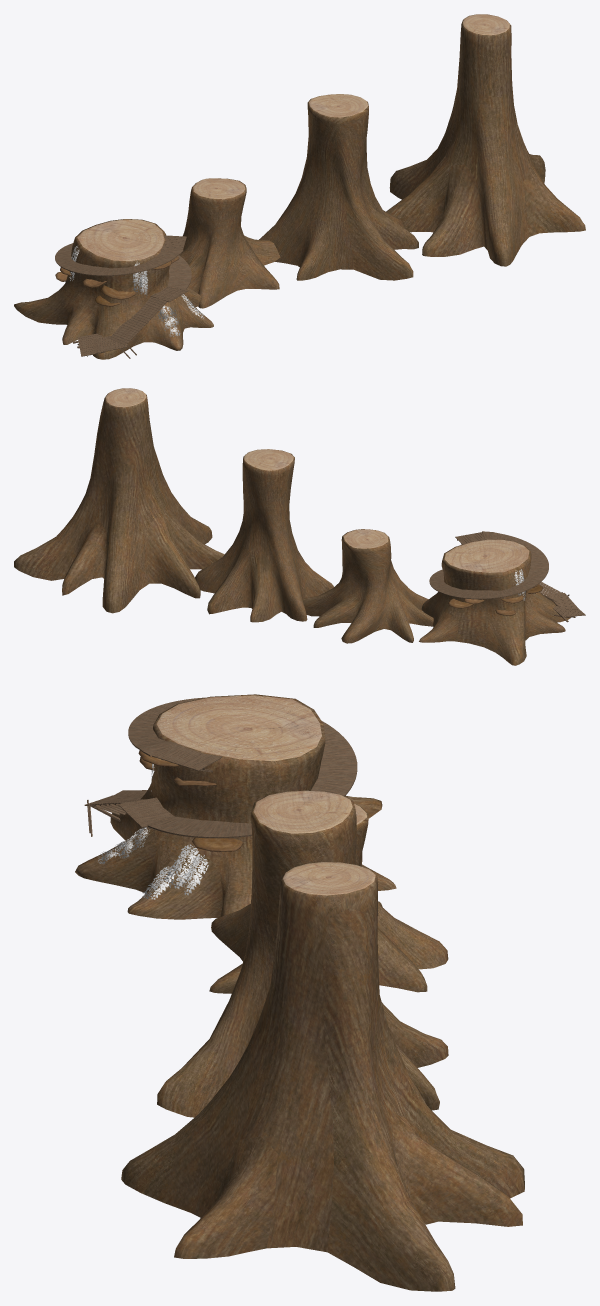
The model's file is Massive_Stumps_A1.fbx.
The picture shows the model from 3 angles, top to bottom: view 1: azimuth 30°, elevation 25°; view 2: azimuth 150°, elevation 25°; view 3: azimuth 270°, elevation 25°; orthographic projection. The views are drawn at different scales.
Visible parts, largest first — view 1: Massive_Stump_A4, Massive_Stump_A3, Massive_Stump_A1, Massive_Stump_A2, Massive_Stump_A1_Ramp, Massive_Stump_A1_Ivy, Massive_Stump_A1_Mushrooms; view 2: Massive_Stump_A4, Massive_Stump_A3, Massive_Stump_A1, Massive_Stump_A2, Massive_Stump_A1_Ramp, Massive_Stump_A1_Mushrooms; view 3: Massive_Stump_A4, Massive_Stump_A1, Massive_Stump_A3, Massive_Stump_A1_Ramp, Massive_Stump_A2, Massive_Stump_A1_Ivy, Massive_Stump_A1_Mushrooms.
Boxes of the visible parts, left/top/right/bottom form: Massive_Stump_A4: left=386, top=14, right=585, bottom=266; Massive_Stump_A3: left=259, top=94, right=418, bottom=280; Massive_Stump_A1: left=14, top=219, right=213, bottom=359; Massive_Stump_A2: left=179, top=178, right=280, bottom=308; Massive_Stump_A1_Ramp: left=55, top=235, right=191, bottom=358; Massive_Stump_A1_Ivy: left=69, top=246, right=204, bottom=336; Massive_Stump_A1_Mushrooms: left=55, top=256, right=179, bottom=306; Massive_Stump_A4: left=14, top=388, right=224, bottom=613; Massive_Stump_A3: left=195, top=449, right=333, bottom=622; Massive_Stump_A1: left=419, top=539, right=569, bottom=665; Massive_Stump_A2: left=302, top=529, right=433, bottom=643; Massive_Stump_A1_Ramp: left=429, top=531, right=585, bottom=622; Massive_Stump_A1_Mushrooms: left=448, top=584, right=542, bottom=615; Massive_Stump_A4: left=121, top=862, right=524, bottom=1291; Massive_Stump_A1: left=75, top=694, right=396, bottom=919; Massive_Stump_A3: left=157, top=790, right=448, bottom=1117; Massive_Stump_A1_Ramp: left=84, top=697, right=357, bottom=838; Massive_Stump_A2: left=209, top=803, right=448, bottom=993; Massive_Stump_A1_Ivy: left=98, top=763, right=208, bottom=899; Massive_Stump_A1_Mushrooms: left=138, top=750, right=243, bottom=851.
Bounding box in the file's own units: 10613 × 3645 × 4225.
